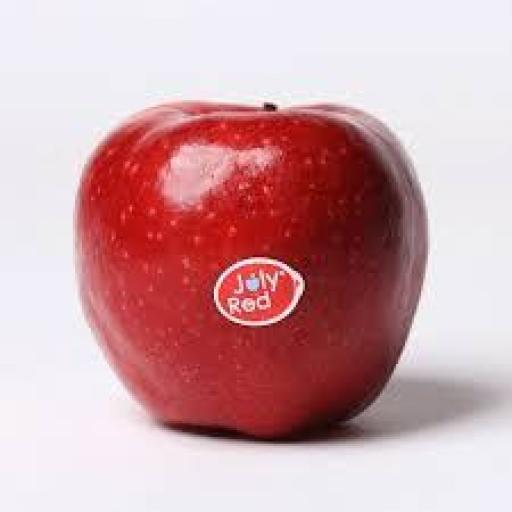apple: (76, 103, 427, 436)
